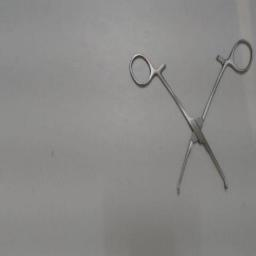Allis Tissue Forceps: (126, 34, 256, 200)
